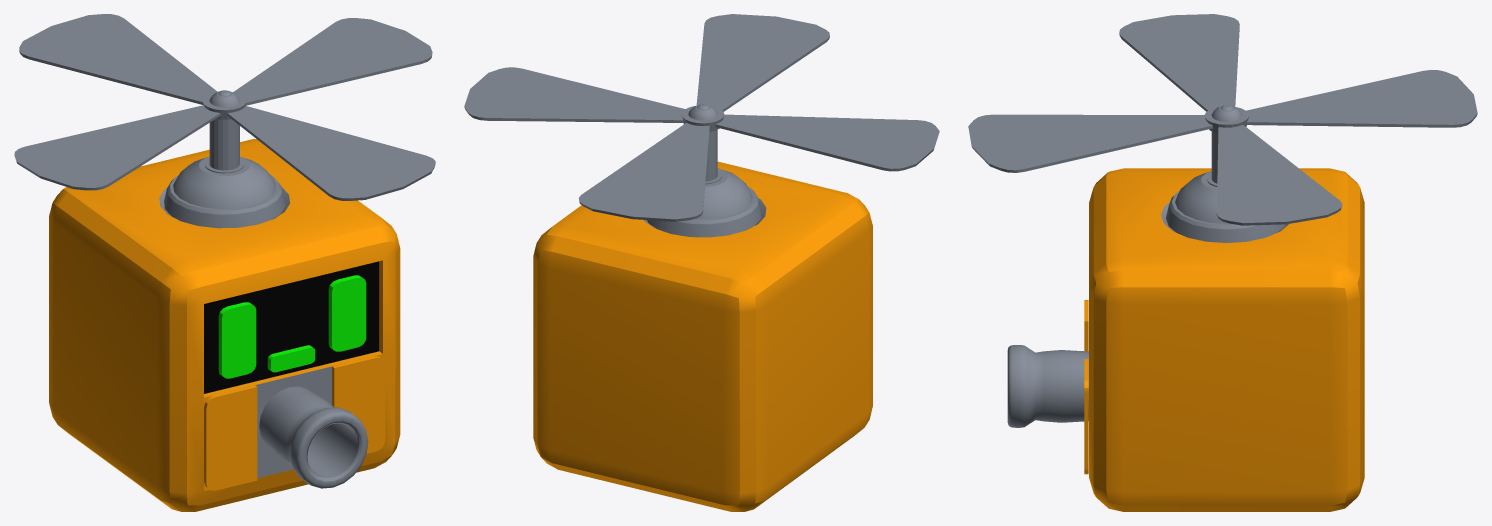
Rendered from Propeller3.fbx.
The picture shows the model from 3 angles, left to right: view 1: azimuth 30°, elevation 25°; view 2: azimuth 150°, elevation 25°; view 3: azimuth 270°, elevation 25°; orthographic projection. The views are drawn at different scales.
Parts seen in each view (by area): view 1: pCylinder14; view 2: pCylinder14; view 3: pCylinder14.
Part boxes in pixels (<box>): pCylinder14: <box>14,14,435,511</box>; pCylinder14: <box>464,14,939,511</box>; pCylinder14: <box>968,14,1477,511</box>.
Bounding box in the file's own units: 52.26 × 41.91 × 53.79.
